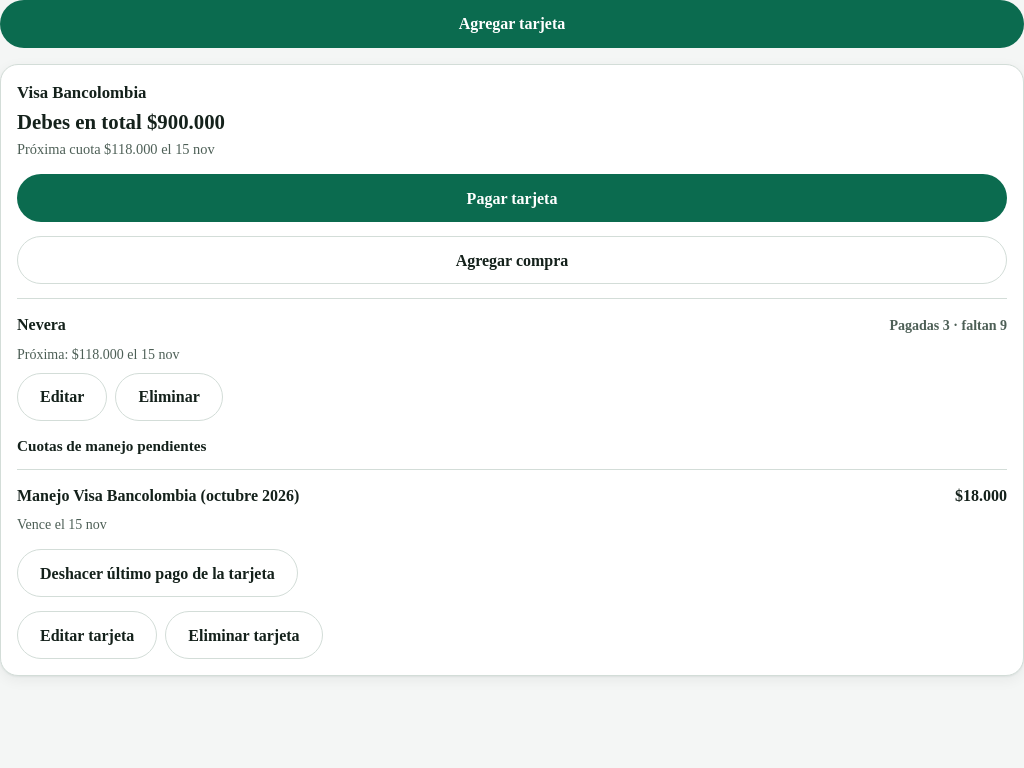
Scenario: deshacer el último pago de la tarjeta › «Volver» cierra la confirmación sin deshacer
Click the button with aria-label "Deshacer último pago de la tarjeta Visa Bancolombia" at (157, 574), box [17,550,298,598]
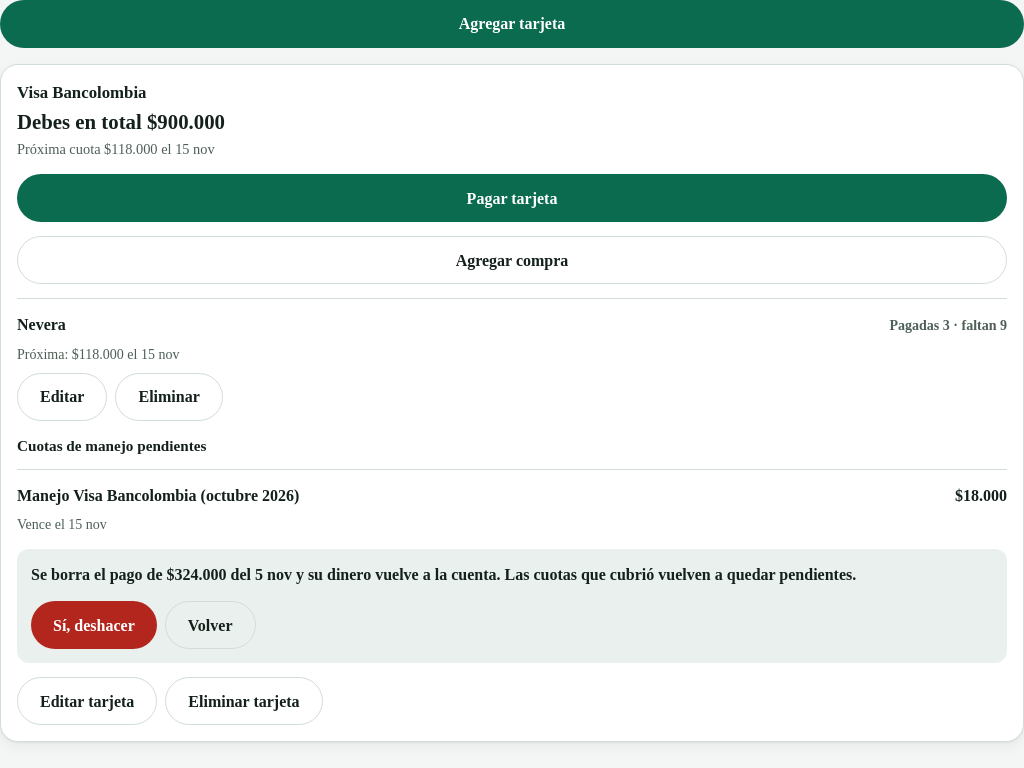
Click the button "Volver" at (210, 626), box [165,602,256,650]
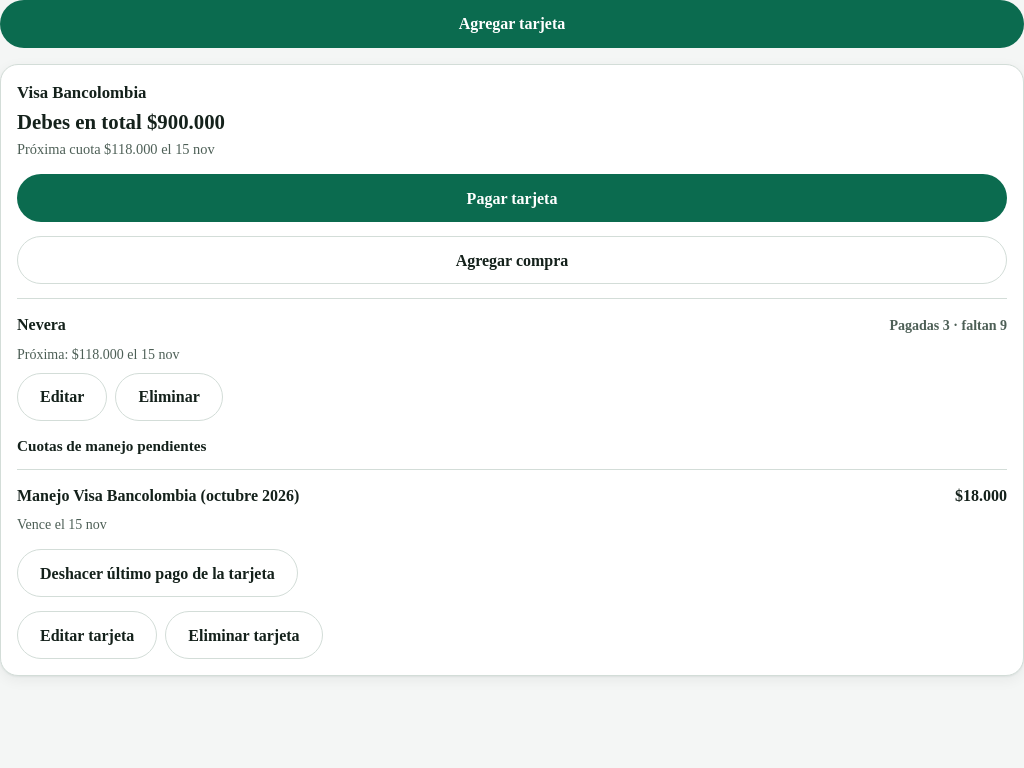
Check: the button with aria-label "Deshacer último pago de la tarjeta Visa Bancolombia" is shown, box [17,550,298,598]
